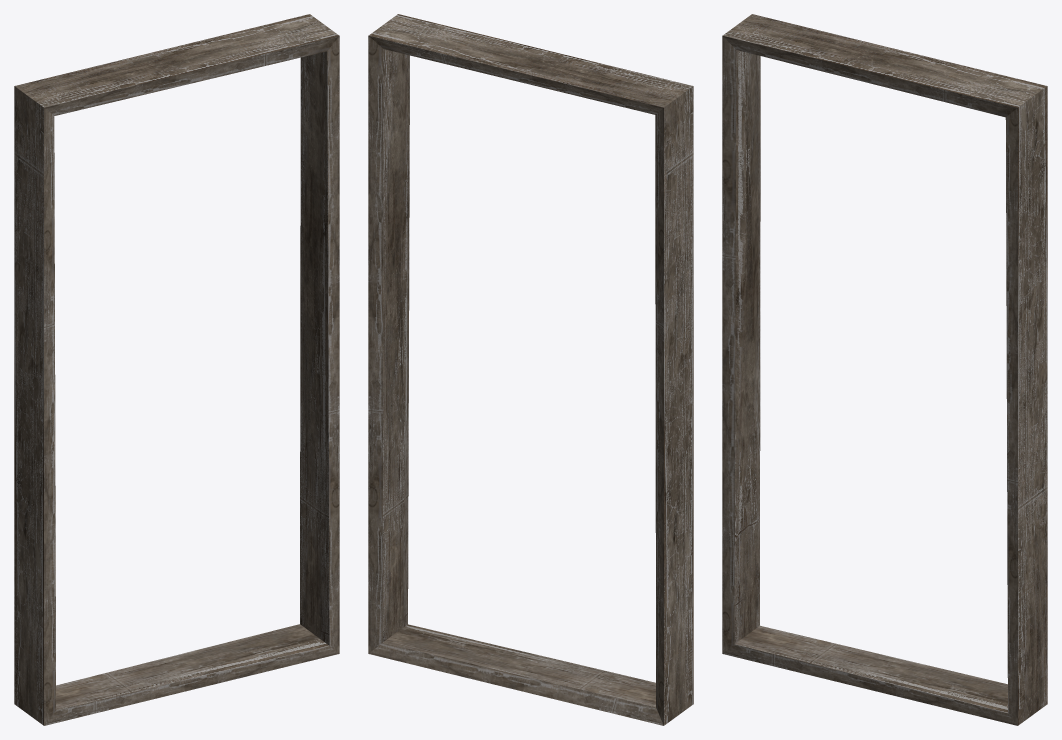
Rendered from SM_DoorFrameCastle01.FBX.
The picture shows the model from 3 angles, left to right: view 1: azimuth 30°, elevation 25°; view 2: azimuth 150°, elevation 25°; view 3: azimuth 330°, elevation 25°; orthographic projection.
Parts seen in each view (by area): view 1: SM_DoorFrameCastle01; view 2: SM_DoorFrameCastle01; view 3: SM_DoorFrameCastle01.
Part boxes in pixels (x1=…): SM_DoorFrameCastle01: x1=14, y1=14, x2=339, y2=725; SM_DoorFrameCastle01: x1=368, y1=14, x2=693, y2=725; SM_DoorFrameCastle01: x1=722, y1=14, x2=1047, y2=725.
Bounding box in the file's own units: 200 × 34.76 × 400.
